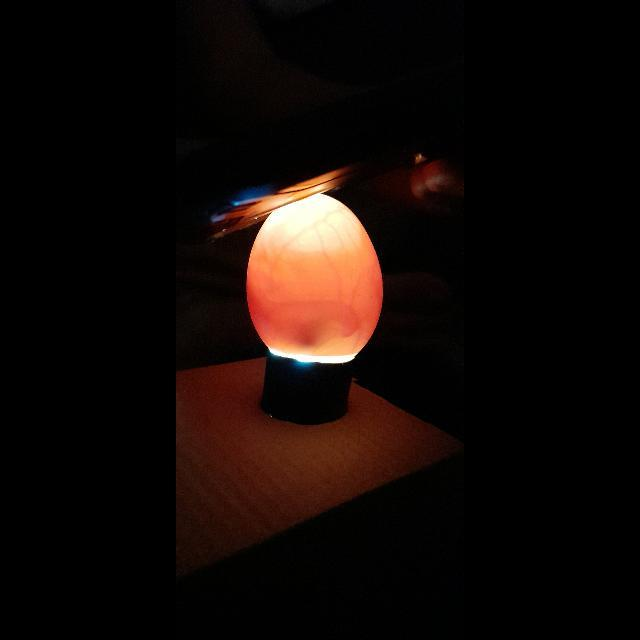Fertile: (250, 192, 382, 362)
